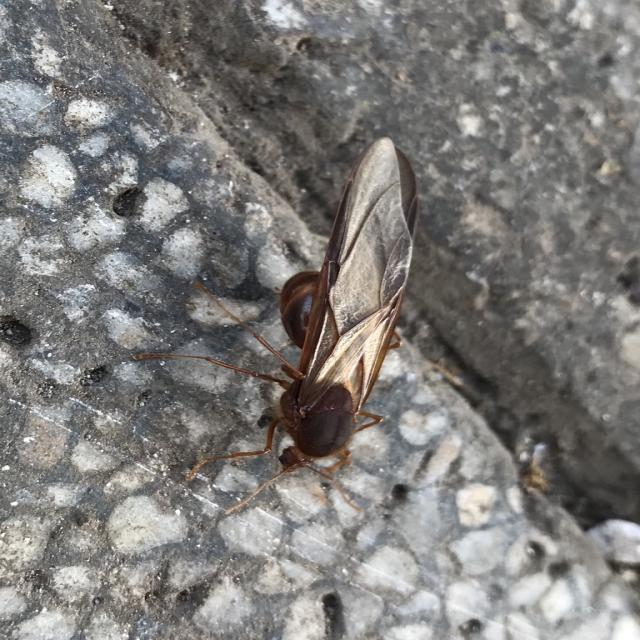Alive-Male-Alate: (130, 136, 420, 516)
